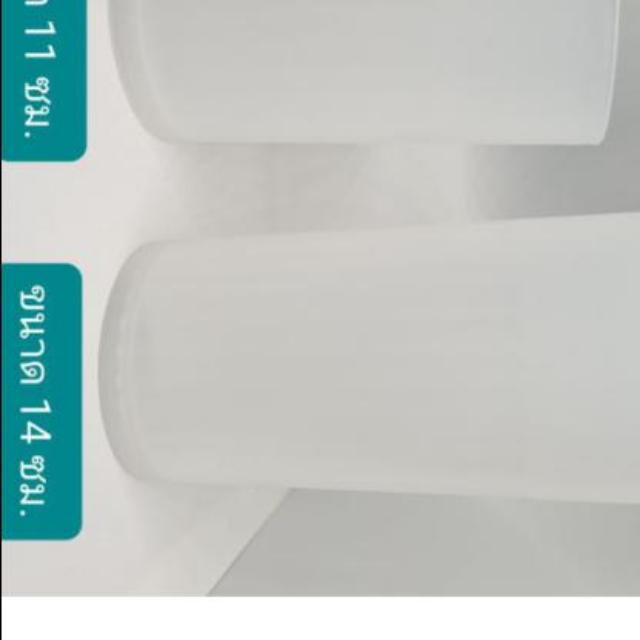plastic_cup: (95, 208, 639, 510), (107, 1, 617, 148)
